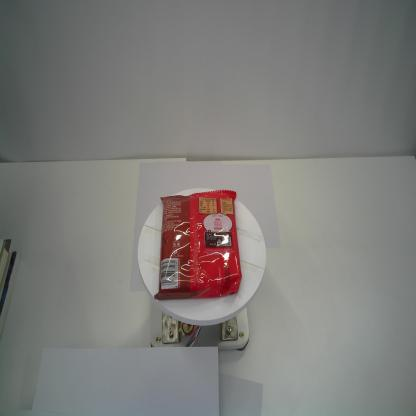Dessert: (154, 189, 242, 301)
